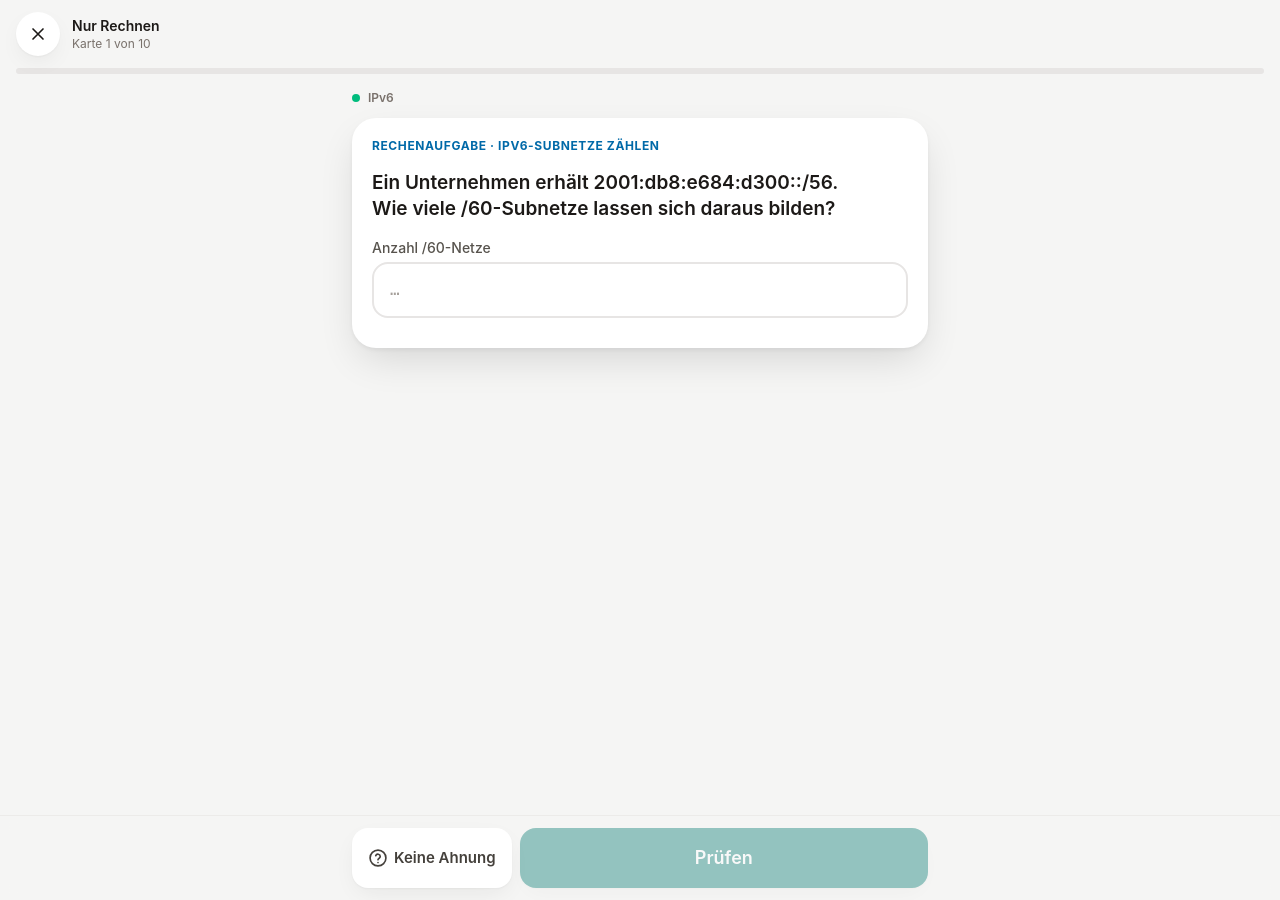
Test: App › Beenden fragt mit eigener Bestätigung nach (ohne window.confirm)
This screenshot has width=1280, height=900.
Earlier steps of the test are not shown.
Type "1" into the field at (640, 290), box [390,264,890,316]
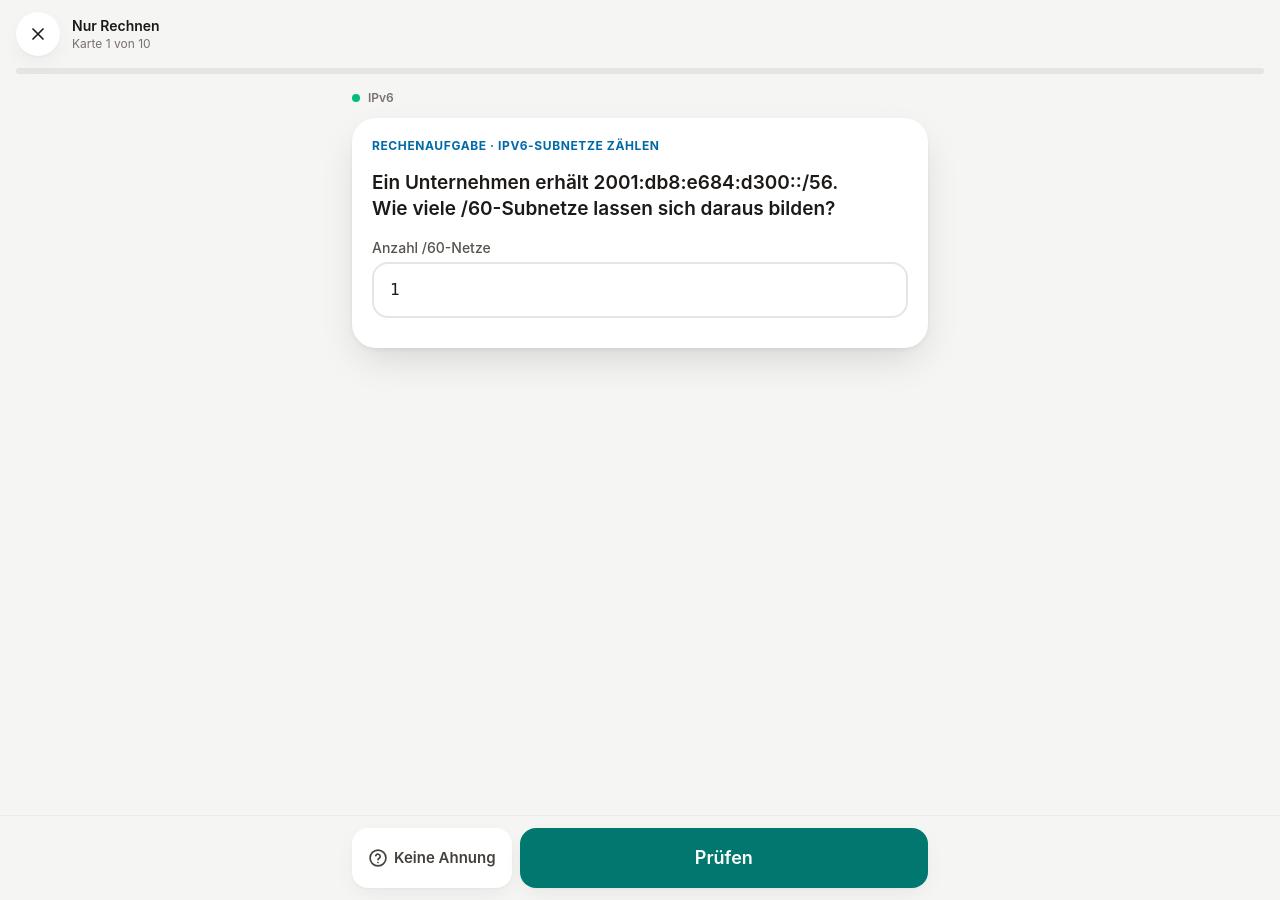
Click the button "Prüfen" at (724, 858), box [520,828,928,888]
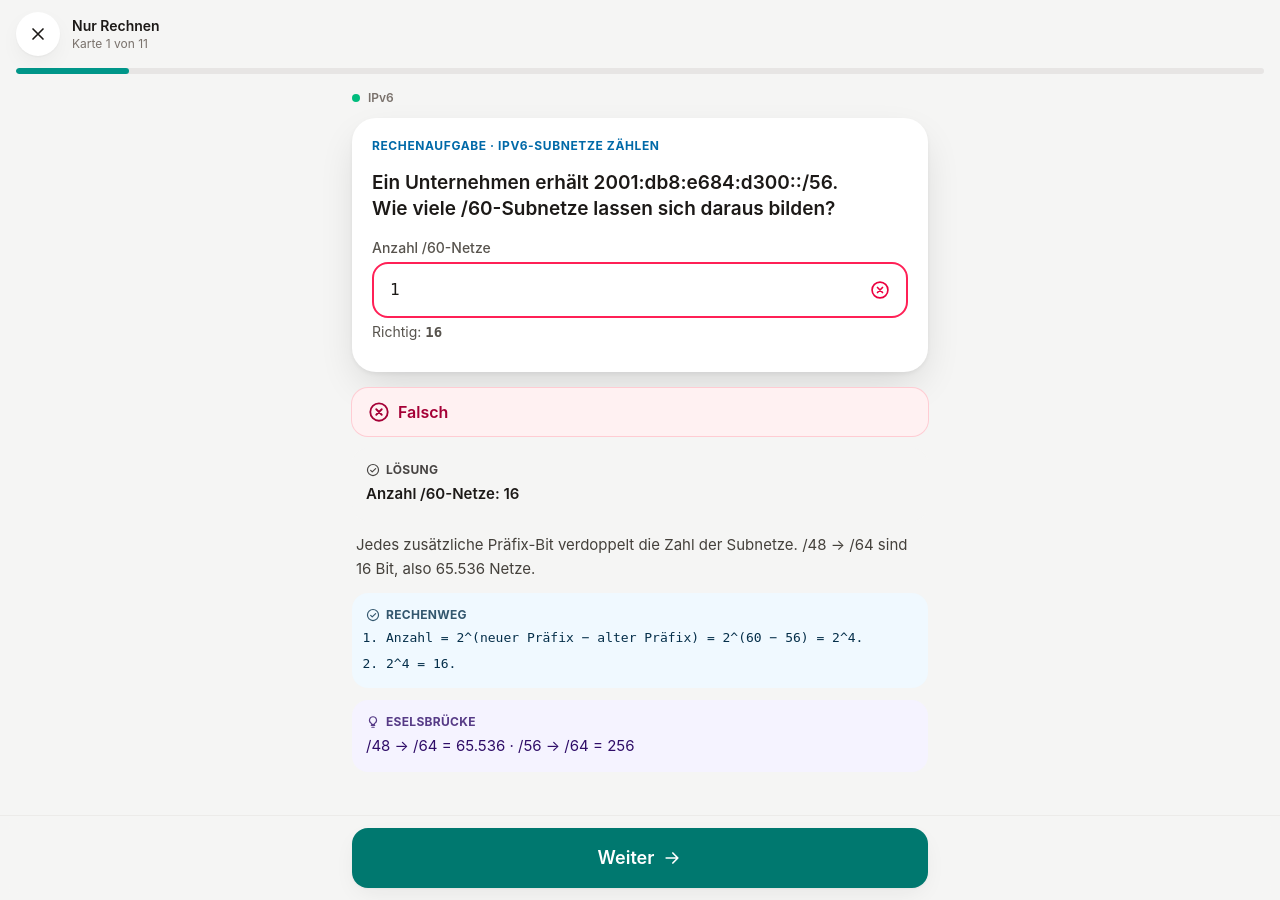
Click the button named "Sitzung beenden" at (38, 34), box [16,12,60,56]
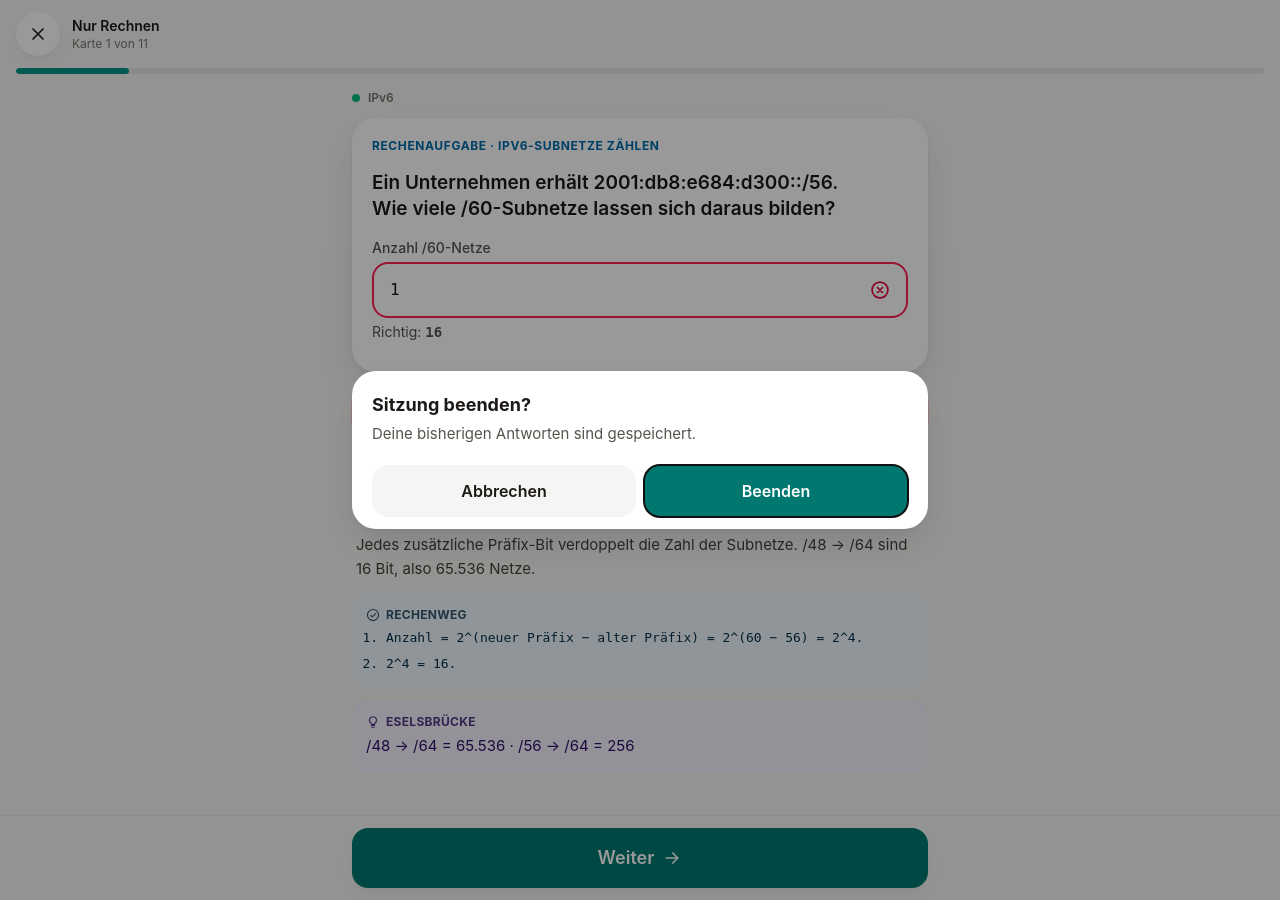
Click the button "Abbrechen" at (504, 491), box [372,465,636,517]
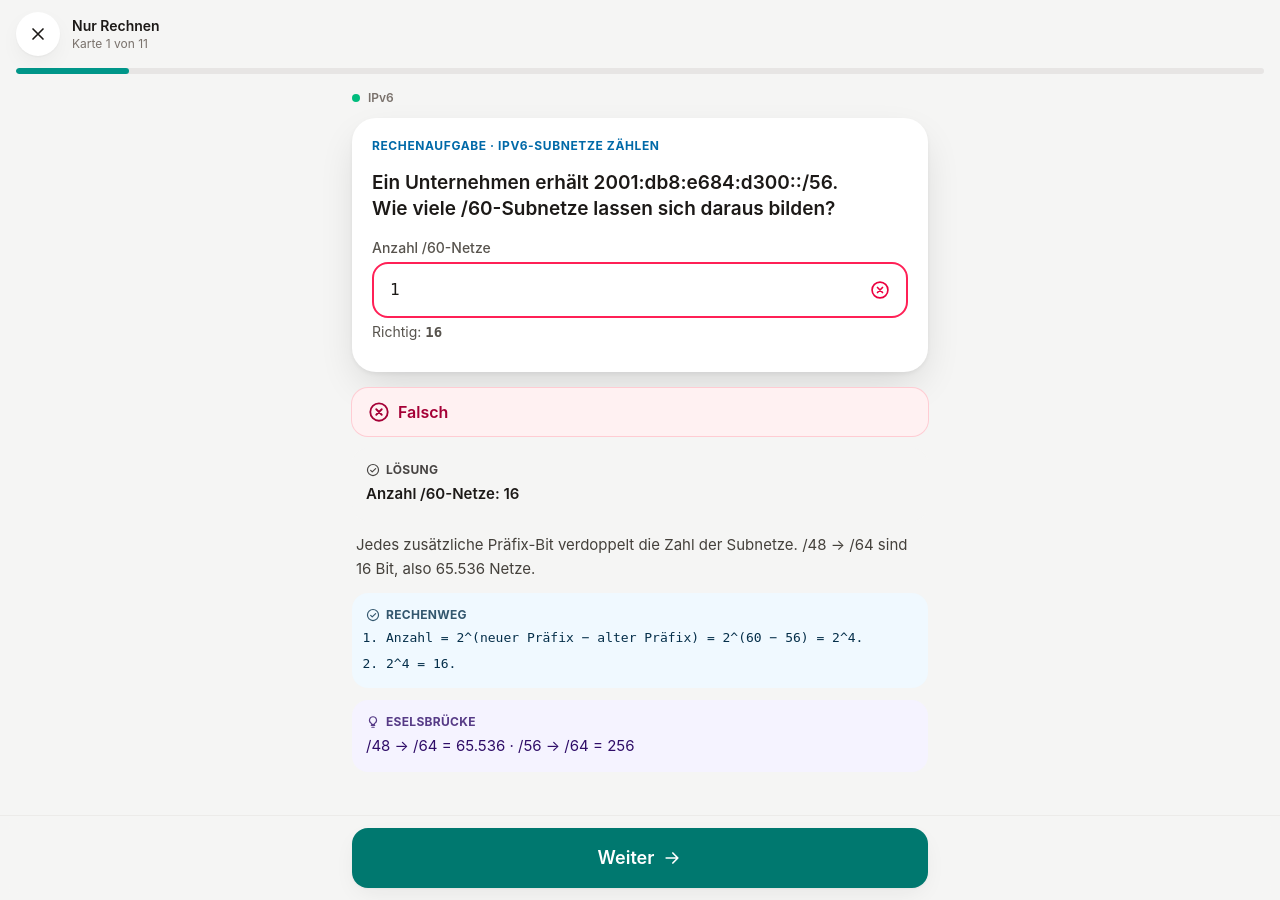
expect the dialog is gone: met
Click the button named "Sitzung beenden" at (38, 34), box [16,12,60,56]
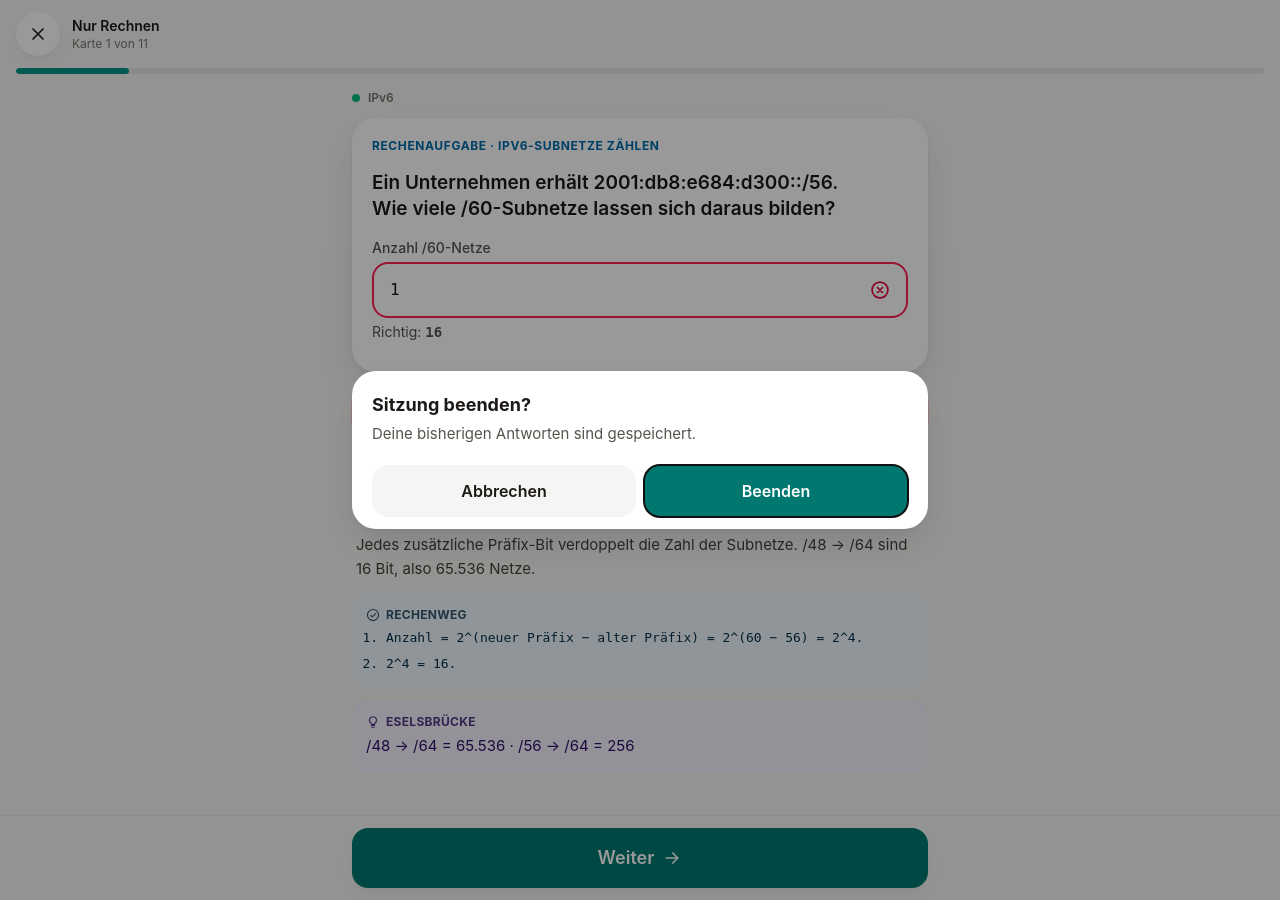
Click the button "Beenden" at (776, 491), box [644,465,908,517]
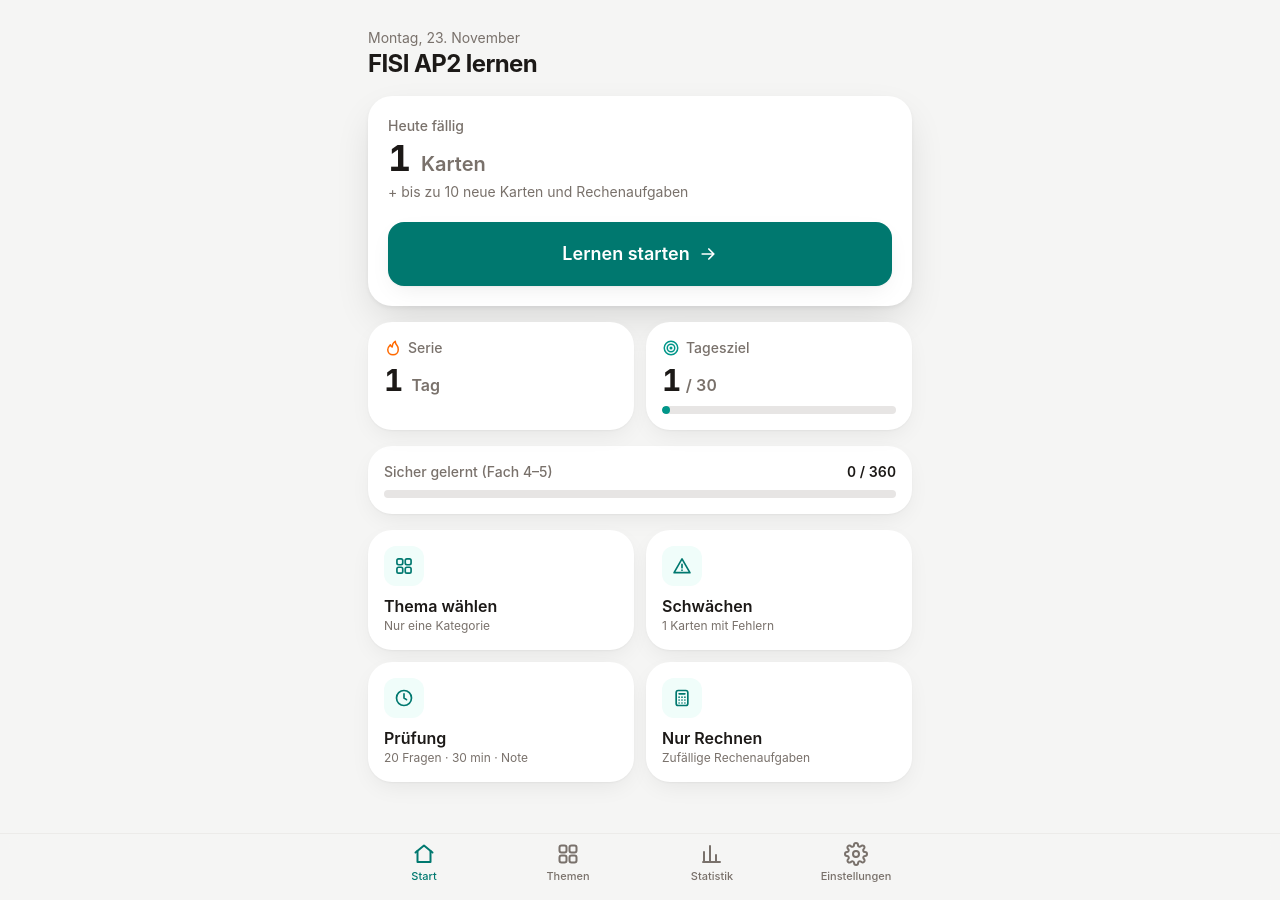
expect the text "Heute fällig" is shown: met, box [388,117,464,134]
